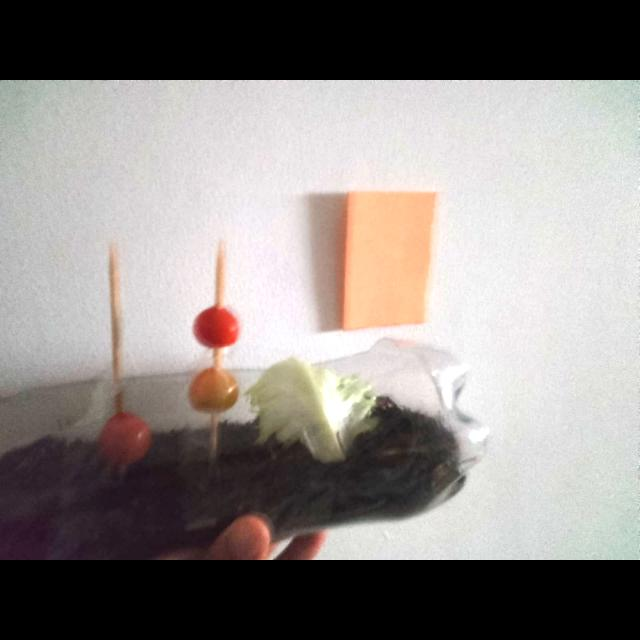card: (342, 191, 436, 330)
fruit_bud: (189, 368, 239, 412)
fully_grown: (99, 412, 151, 466), (193, 306, 239, 349)
